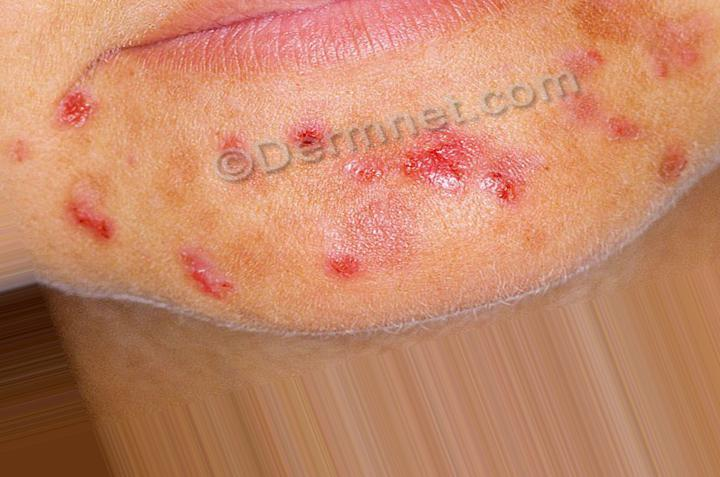Acne: (410, 116, 532, 215), (563, 63, 646, 148), (168, 241, 246, 311), (74, 193, 124, 253), (350, 152, 399, 208), (326, 231, 366, 286), (288, 120, 339, 159), (215, 126, 256, 170), (60, 94, 104, 134), (663, 135, 691, 196), (378, 234, 418, 261)
